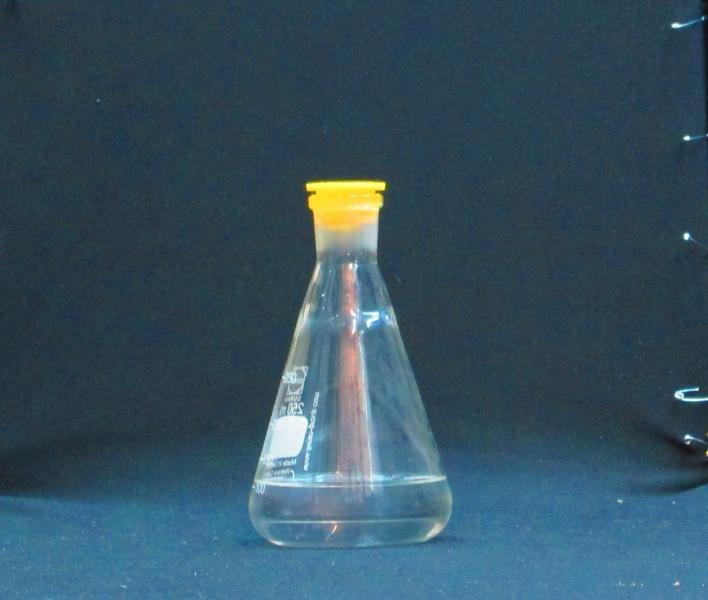Titrarion: (231, 163, 455, 548)
